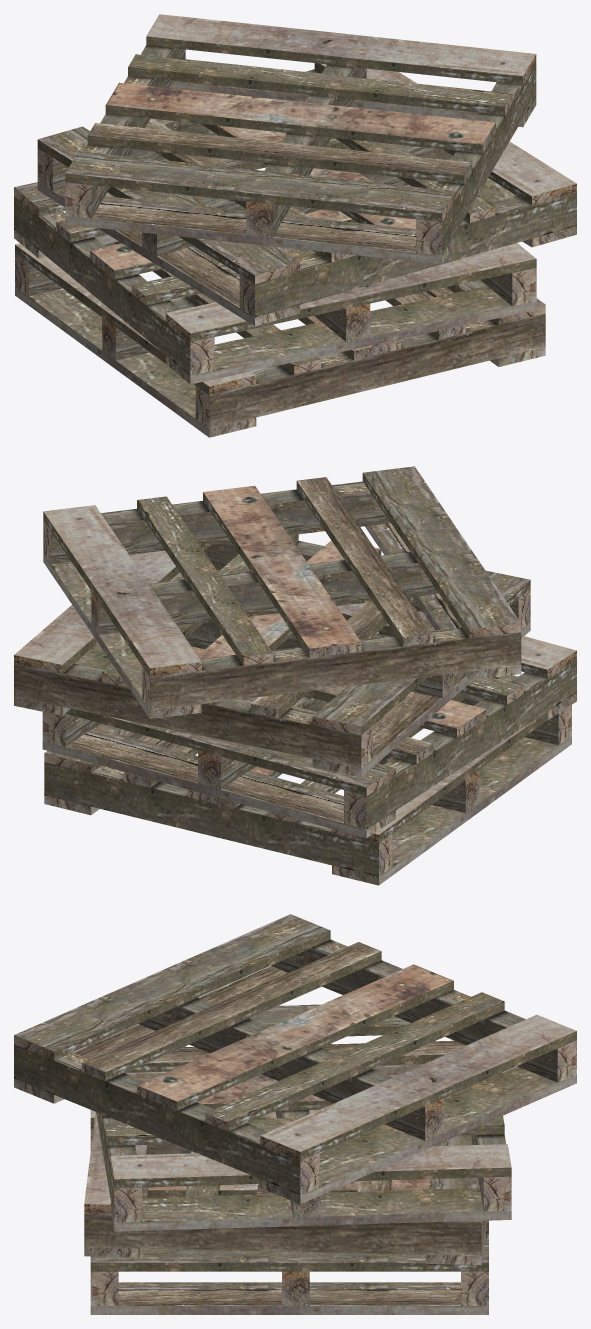
The model's file is crate_a.fbx.
3 views of the same model, one above another, from view 1: azimuth 30°, elevation 25°; view 2: azimuth 150°, elevation 25°; view 3: azimuth 270°, elevation 25° (orthographic). The views are drawn at different scales.
Visible parts, largest first — view 1: crate_a; view 2: crate_a; view 3: crate_a.
Part boxes in pixels (box(x1,y1,x2,y2)): crate_a: box(14, 14, 576, 437); crate_a: box(14, 466, 576, 885); crate_a: box(14, 914, 576, 1314).
Size of the model in its own units: 226 by 92.88 by 226.
Materials: 1 (1 with a texture image).
